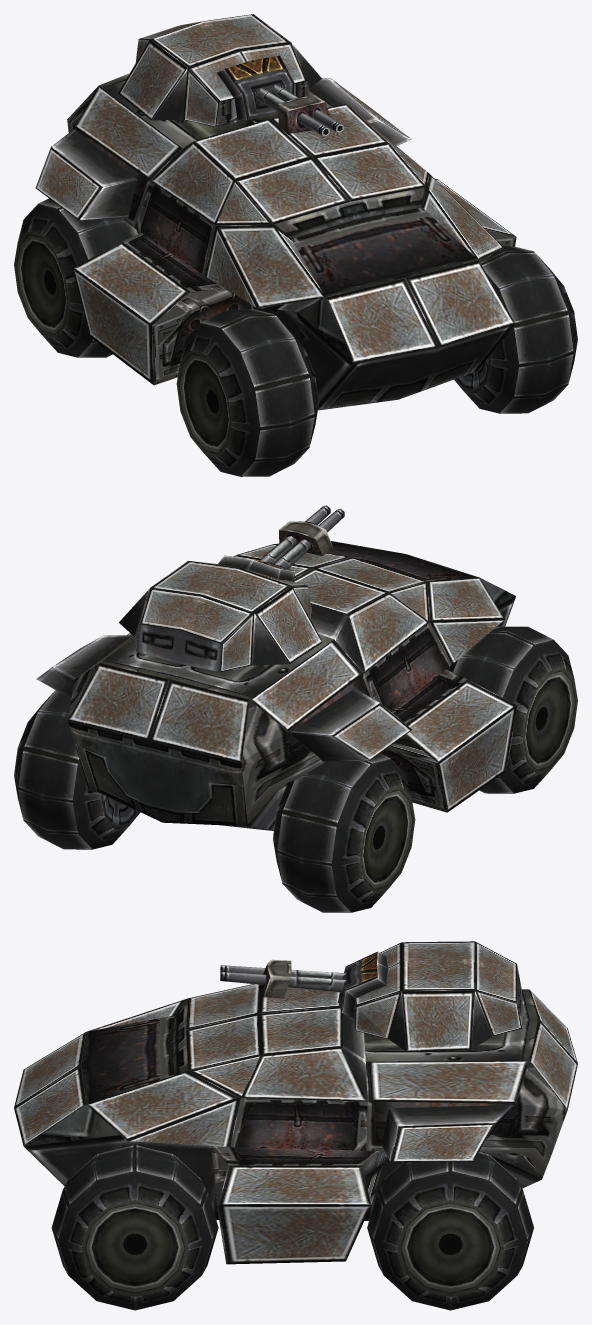
Rendered from VEH_JEEP_006.max.fbx.
3 renders of one model, top to bottom at view 1: azimuth 30°, elevation 25°; view 2: azimuth 150°, elevation 25°; view 3: azimuth 270°, elevation 25°, orthographic. The views are drawn at different scales.
Parts seen in each view (by area): view 1: body, wheel-02, turret01, wheel-01, wheel-04, Object01; view 2: body, wheel-04, turret01, wheel-02, wheel-03, Object01; view 3: body, wheel-01, wheel-03, turret01, Object01.
Part boxes in pixels (left/top/right/bottom): body: left=35, top=73, right=516, bottom=410; wheel-02: left=176, top=309, right=318, bottom=476; turret01: left=118, top=14, right=321, bottom=126; wheel-01: left=454, top=246, right=577, bottom=413; wheel-04: left=14, top=198, right=140, bottom=357; Object01: left=257, top=84, right=343, bottom=136; body: left=36, top=541, right=517, bottom=830; wheel-04: left=273, top=753, right=415, bottom=912; turret01: left=119, top=555, right=322, bottom=672; wheel-02: left=448, top=626, right=577, bottom=793; wheel-03: left=14, top=690, right=140, bottom=849; Object01: left=259, top=505, right=344, bottom=568; body: left=14, top=984, right=577, bottom=1264; wheel-01: left=51, top=1145, right=218, bottom=1310; wheel-03: left=367, top=1152, right=533, bottom=1310; turret01: left=338, top=941, right=522, bottom=1051; Object01: left=220, top=959, right=346, bottom=998.
Size of the model in its own units: 10.03 by 7.62 by 13.85.
